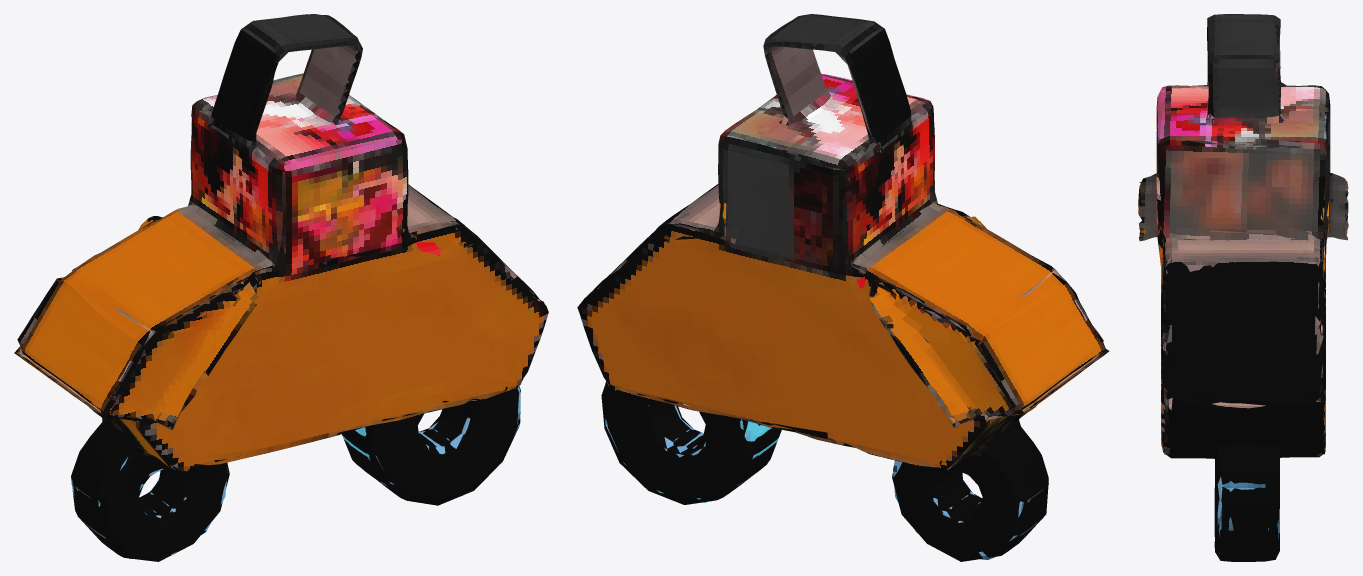
File: Vehicle_QuadRetro.glb
The picture shows the model from 3 angles, left to right: view 1: azimuth 30°, elevation 25°; view 2: azimuth 150°, elevation 25°; view 3: azimuth 270°, elevation 25°; orthographic projection. The views are drawn at different scales.
Parts seen in each view (by area): view 1: Vehicle_QuadRemesh; view 2: Vehicle_QuadRemesh; view 3: Vehicle_QuadRemesh.
Part boxes in pixels (left/top/right/bottom): Vehicle_QuadRemesh: left=14, top=14, right=548, bottom=561; Vehicle_QuadRemesh: left=577, top=14, right=1109, bottom=561; Vehicle_QuadRemesh: left=1138, top=14, right=1348, bottom=561.
Size of the model in its own units: 1.89 by 2 by 0.818.
Materials: 1 (1 with a texture image).
